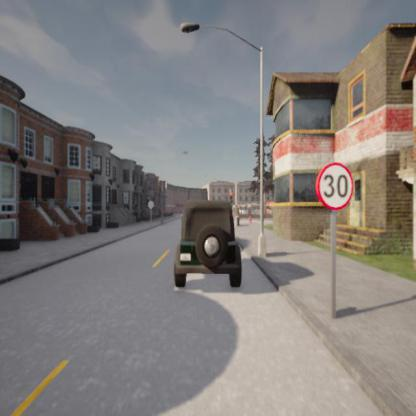traffic_sign_30: (316, 162, 354, 210)
vehicle: (174, 199, 241, 289)
